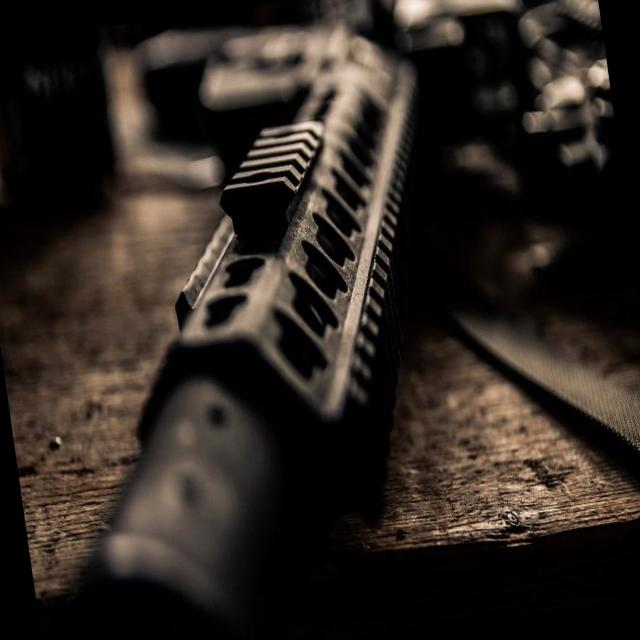Gun: (64, 0, 621, 640)
